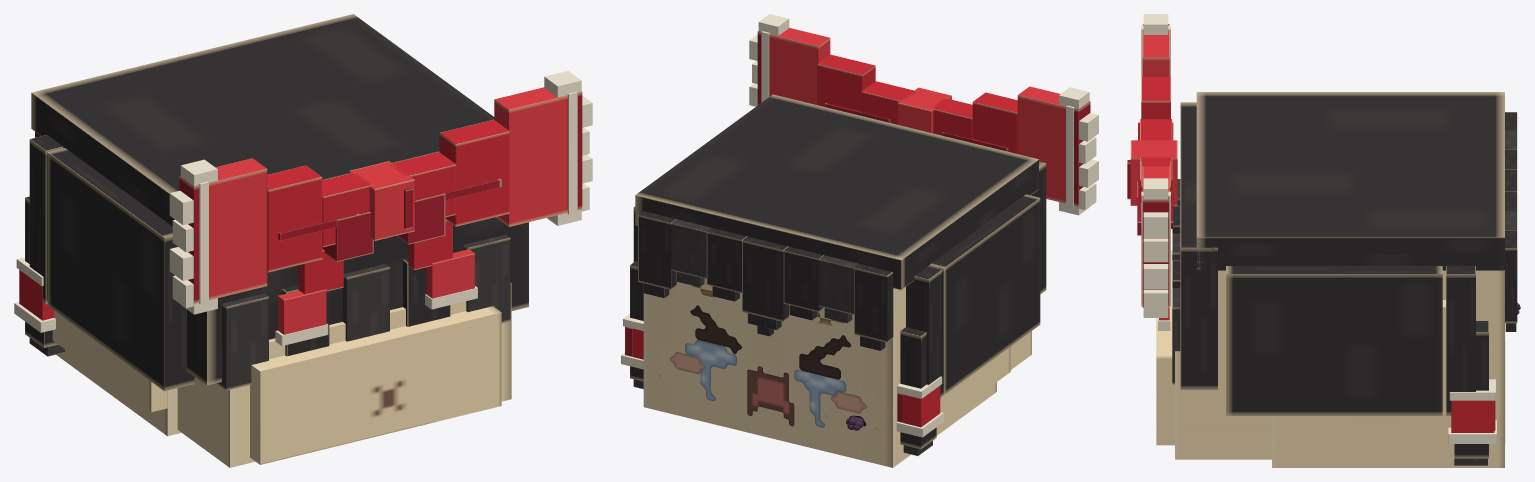
File: leak_reimu_0.obj
3 views of the same model, side by side, from view 1: azimuth 30°, elevation 25°; view 2: azimuth 150°, elevation 25°; view 3: azimuth 270°, elevation 25° (orthographic). The views are drawn at different scales.
Visible parts, largest first — view 1: leak_reimu_0; view 2: leak_reimu_0; view 3: leak_reimu_0.
Part boxes in pixels (x1,y1,x2,y2): leak_reimu_0: (14, 14, 592, 467); leak_reimu_0: (621, 14, 1098, 467); leak_reimu_0: (1127, 14, 1520, 467).
Size of the model in its own units: 16.28 by 12.24 by 14.62.
Materials: 1 (1 with a texture image).
